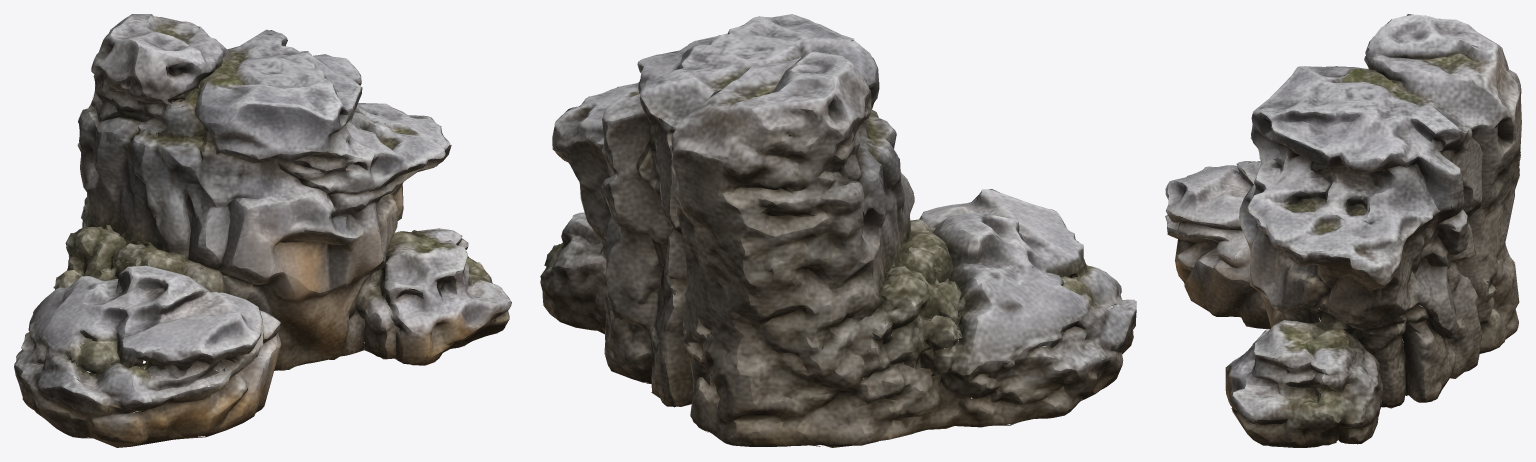
Rendered from campus_v4_limestone_game.glb.
The picture shows the model from 3 angles, left to right: view 1: azimuth 30°, elevation 25°; view 2: azimuth 150°, elevation 25°; view 3: azimuth 270°, elevation 25°; orthographic projection. The views are drawn at different scales.
Visible parts, largest first — view 1: V4_LUX_LIMESTONE; view 2: V4_LUX_LIMESTONE; view 3: V4_LUX_LIMESTONE.
Part boxes in pixels (x1,y1,x2,y2): V4_LUX_LIMESTONE: (14,14,511,447); V4_LUX_LIMESTONE: (540,14,1136,447); V4_LUX_LIMESTONE: (1165,14,1521,447).
Size of the model in its own units: 2.12 by 1.3 by 1.42.
1 material, 1 textured.
